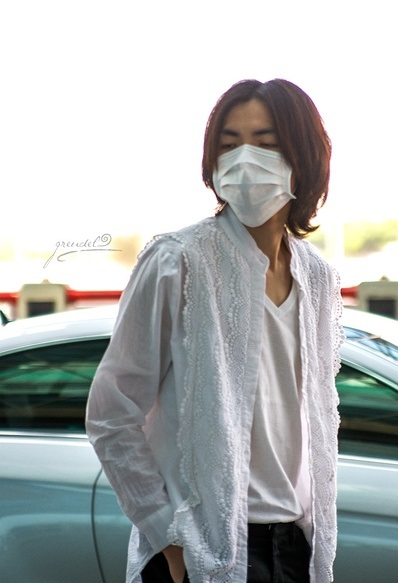face_mask: (215, 96, 287, 219)
